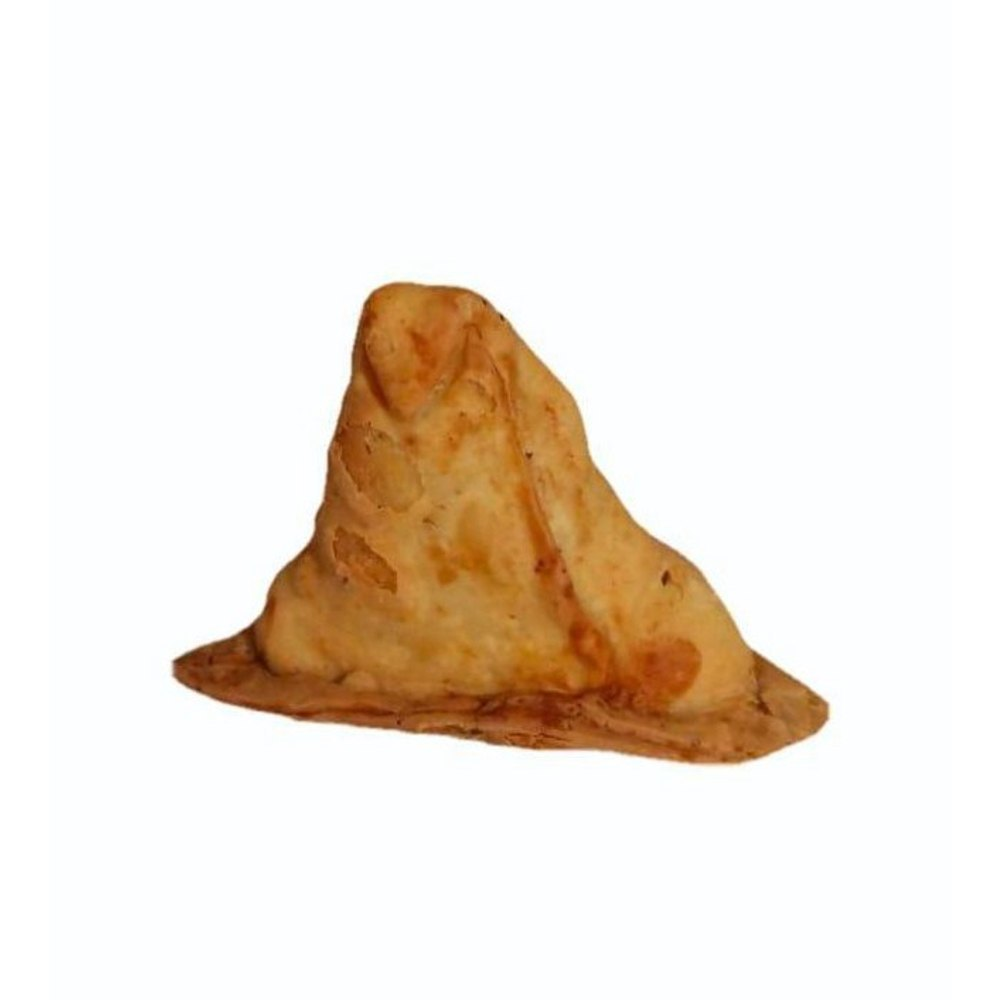samosa: (167, 227, 837, 775)
